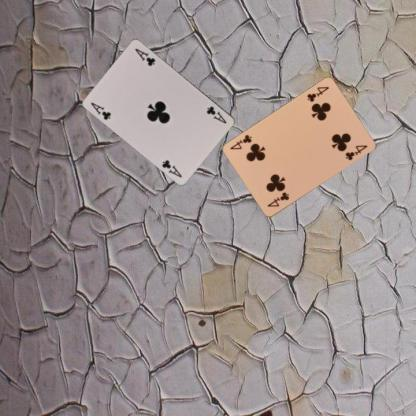4c: (304, 84, 330, 104), (264, 190, 290, 209)
Ac: (88, 100, 113, 122), (204, 103, 228, 125)
